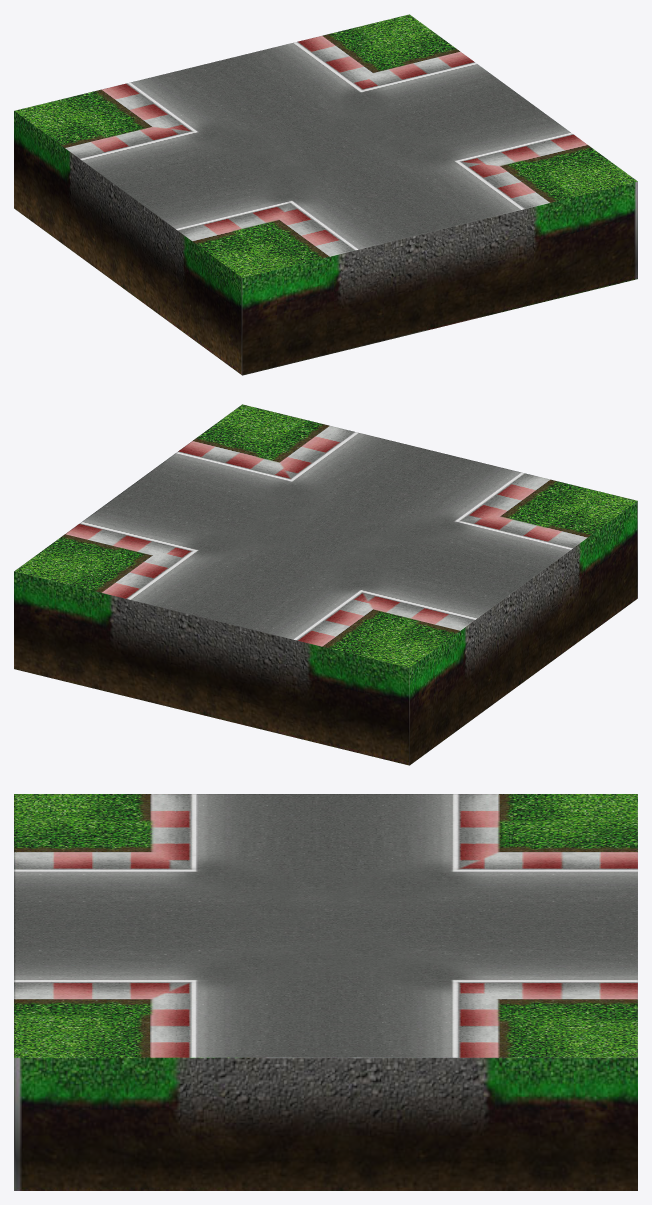
The model's file is road cross.fbx.
3 renders of one model, top to bottom at view 1: azimuth 30°, elevation 25°; view 2: azimuth 150°, elevation 25°; view 3: azimuth 270°, elevation 25°, orthographic. The views are drawn at different scales.
Parts seen in each view (by area): view 1: road cross; view 2: road cross; view 3: road cross.
Boxes of the visible parts, x1,y1,x2,y2 form: road cross: [14, 14, 637, 375]; road cross: [14, 404, 637, 765]; road cross: [14, 794, 637, 1190].
Bounding box in the file's own units: 390 × 91.83 × 390.
